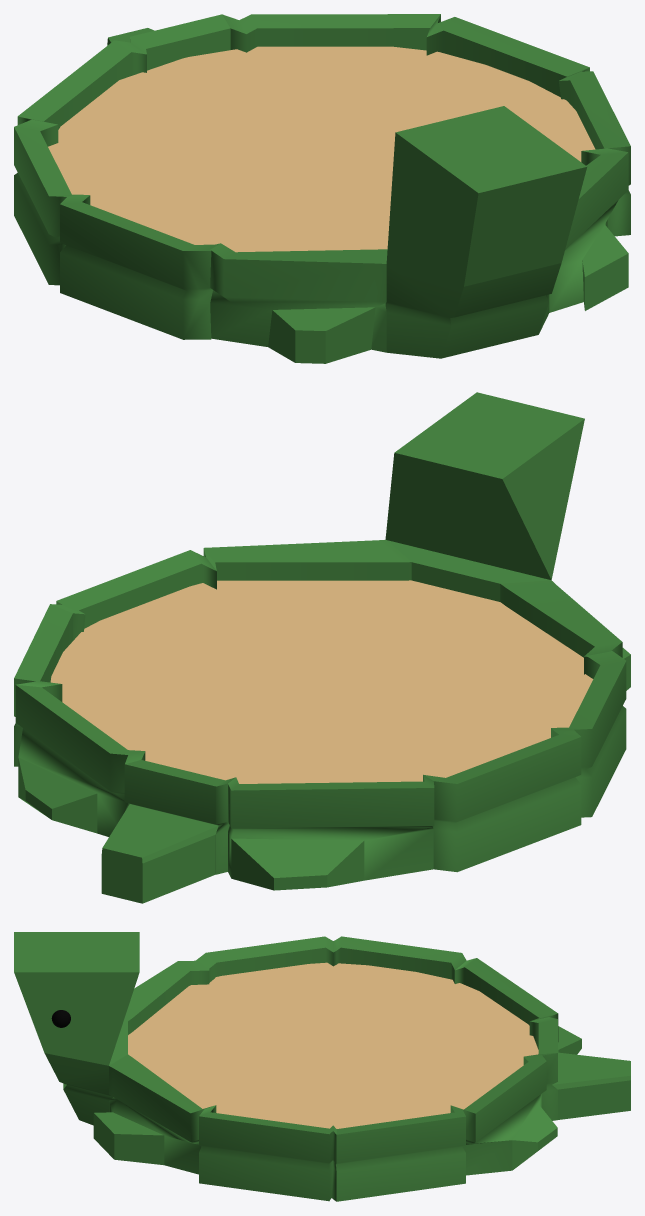
Rendered from turtleSandbox.fbx.
The picture shows the model from 3 angles, top to bottom: view 1: azimuth 30°, elevation 25°; view 2: azimuth 150°, elevation 25°; view 3: azimuth 270°, elevation 25°; orthographic projection. The views are drawn at different scales.
Visible parts, largest first — view 1: pCylinder200; view 2: pCylinder200; view 3: pCylinder200.
Part boxes in pixels (x1=…): pCylinder200: x1=14, y1=14, x2=630, y2=363; pCylinder200: x1=14, y1=392, x2=630, y2=903; pCylinder200: x1=14, y1=932, x2=630, y2=1201.
Bounding box in the file's own units: 2.17 × 0.7658 × 2.86.
